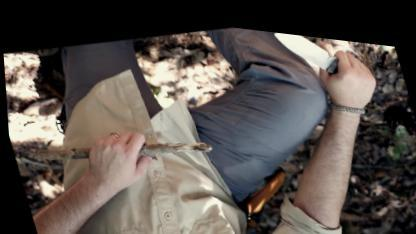knife: (270, 25, 373, 94)
